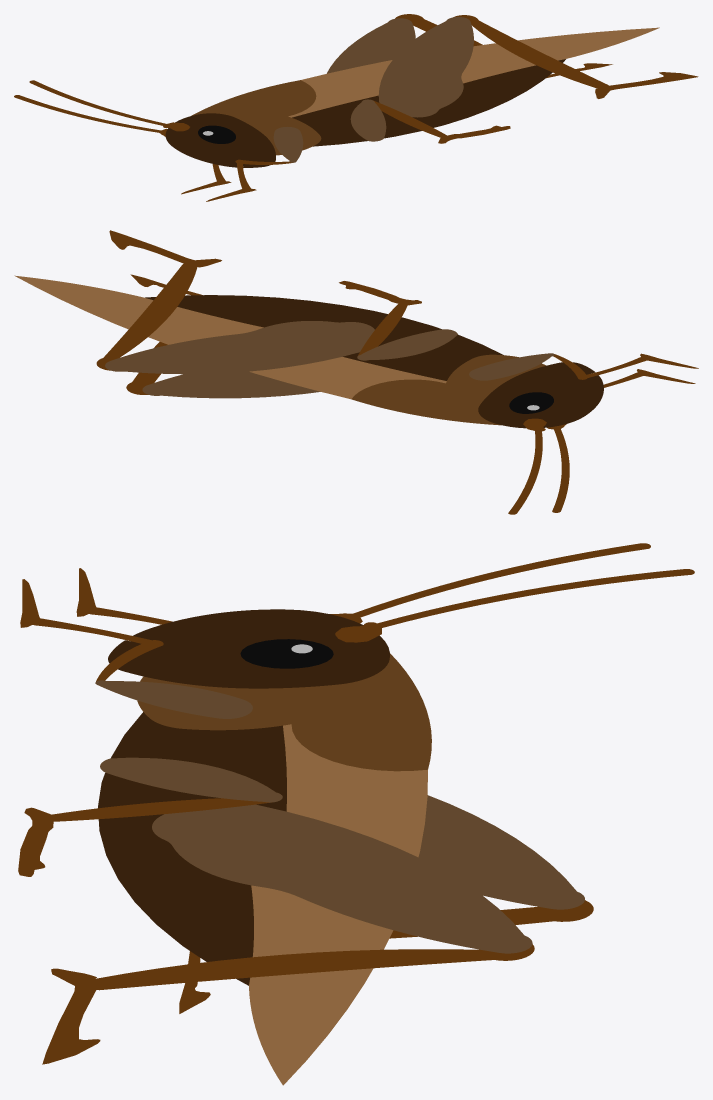
The model's file is cricket.dae.
3 renders of one model, top to bottom at view 1: azimuth 30°, elevation 25°; view 2: azimuth 150°, elevation 25°; view 3: azimuth 270°, elevation 25°, orthographic. The views are drawn at different scales.
Parts seen in each view (by area): view 1: SketchUp (×18); view 2: SketchUp (×18); view 3: SketchUp (×19).
Boxes of the visible parts, left/top/right/bottom form: SketchUp (×18): left=14, top=14, right=698, bottom=201; SketchUp (×18): left=14, top=230, right=698, bottom=514; SketchUp (×19): left=18, top=543, right=694, bottom=1085.
Size of the model in its own units: 126 by 66.18 by 2.41e-13.
